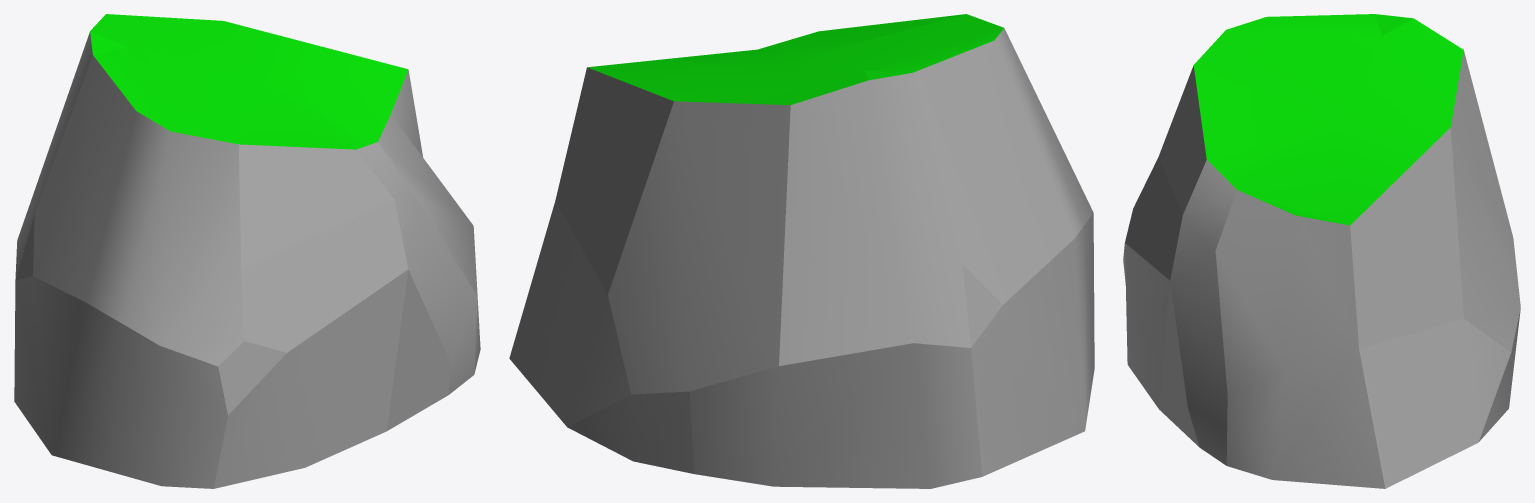
File: rock_beach_small_D.fbx
The picture shows the model from 3 angles, left to right: view 1: azimuth 30°, elevation 25°; view 2: azimuth 150°, elevation 25°; view 3: azimuth 270°, elevation 25°; orthographic projection. The views are drawn at different scales.
Visible parts, largest first — view 1: rock_beach_small_D; view 2: rock_beach_small_D; view 3: rock_beach_small_D.
Boxes of the visible parts, bbox=[...] form: rock_beach_small_D: bbox=[14, 14, 480, 488]; rock_beach_small_D: bbox=[509, 14, 1094, 488]; rock_beach_small_D: bbox=[1123, 14, 1520, 488].
Size of the model in its own units: 18.38 by 13.27 by 15.05.
